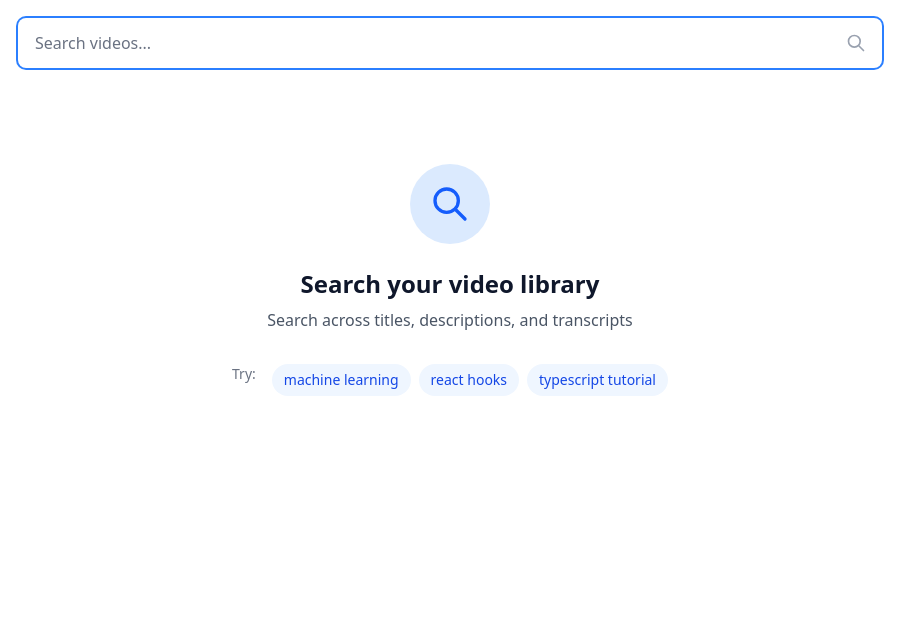
it: SearchPage Phase 6 Tests › T037: ARIA Announcement Tests › should announce combined per-type counts after all sections resolve
Type "machine learning" into the search field at (450, 43), box [18,18,882,68]
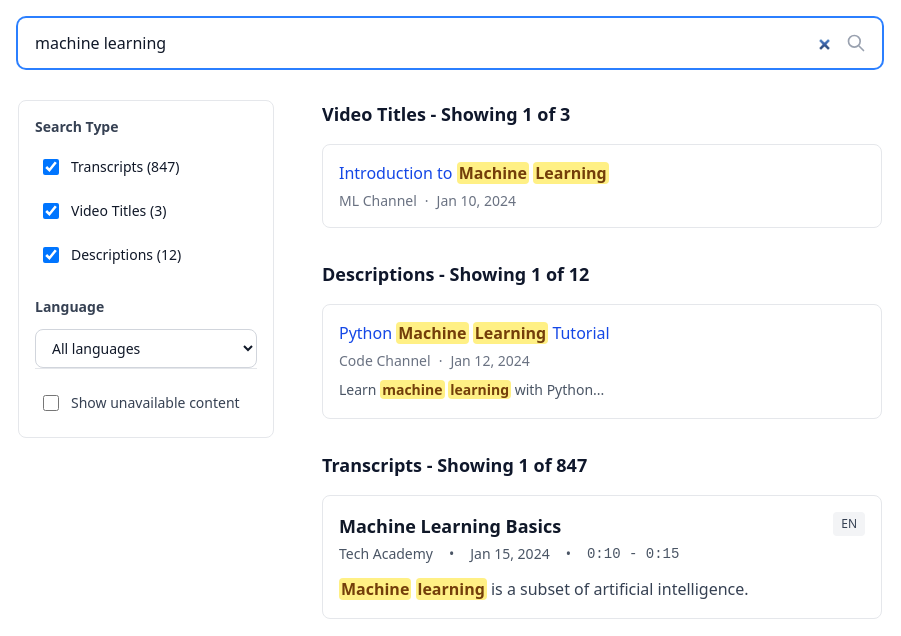
Expected: the heading "Introduction to Machine Learning" is shown, [339,162,609,184]
